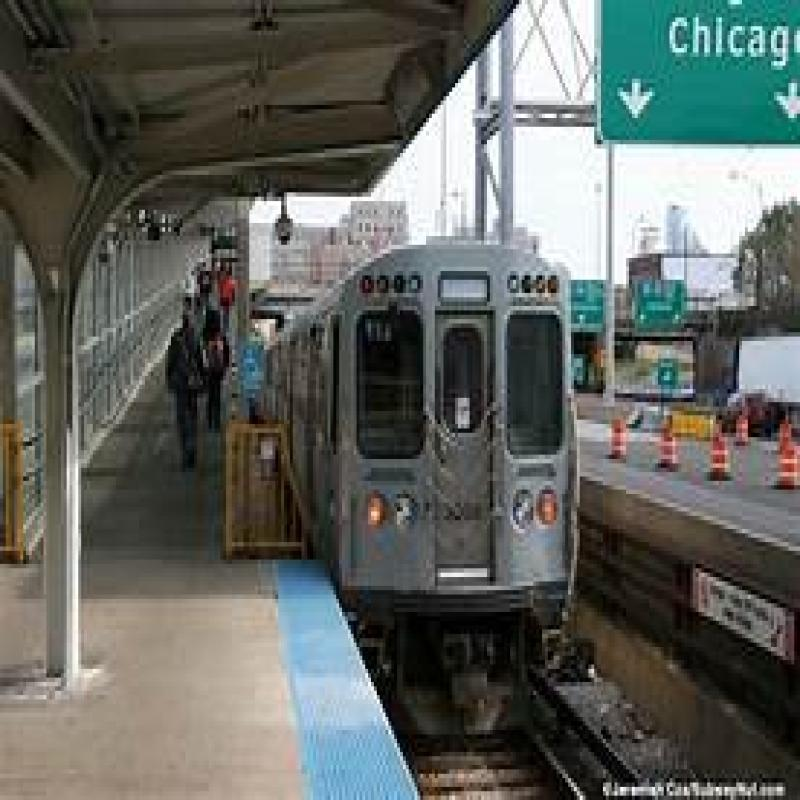train: (305, 233, 607, 679)
